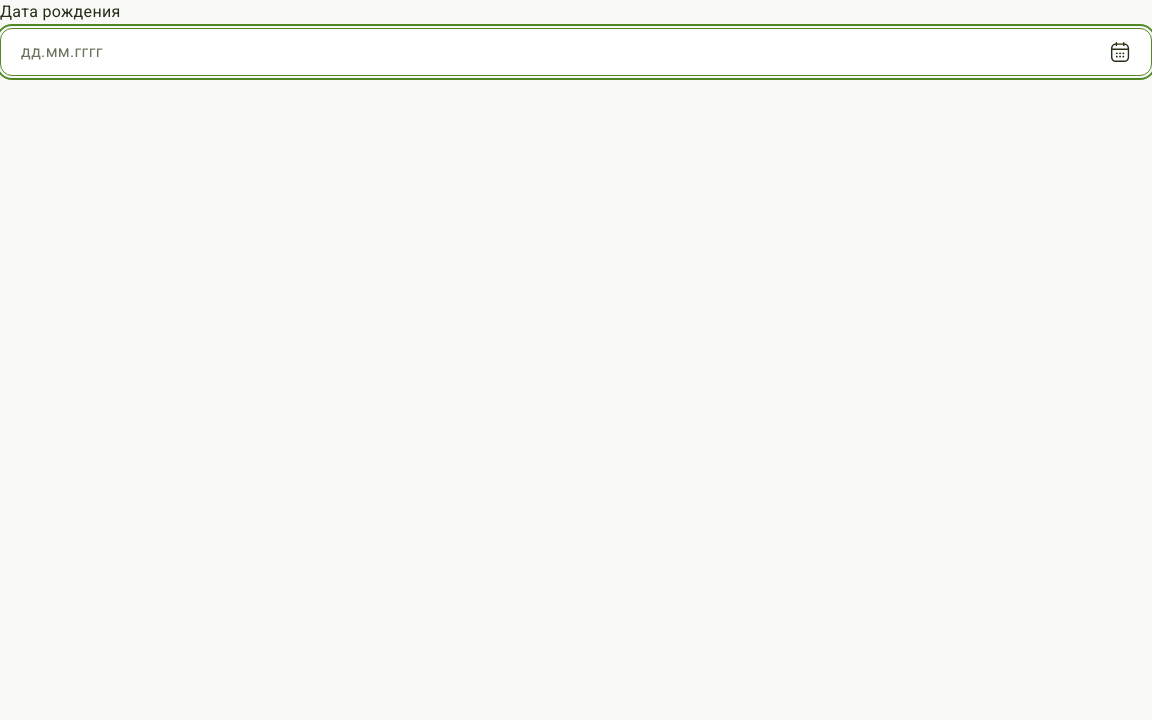
синхронизация с формой › отбрасывает старый черновик при внешнем value=null
The width and height of the screenshot is (1152, 720).
Earlier steps of the test are not shown.
Expected: the field labelled "Дата рождения" is empty, [0,28,1151,76]
What coordinates should you click on to do the following:
click the button named "Открыть календарь"
I would click on:
 (1120, 52)
Its box is [1108,40,1132,64].
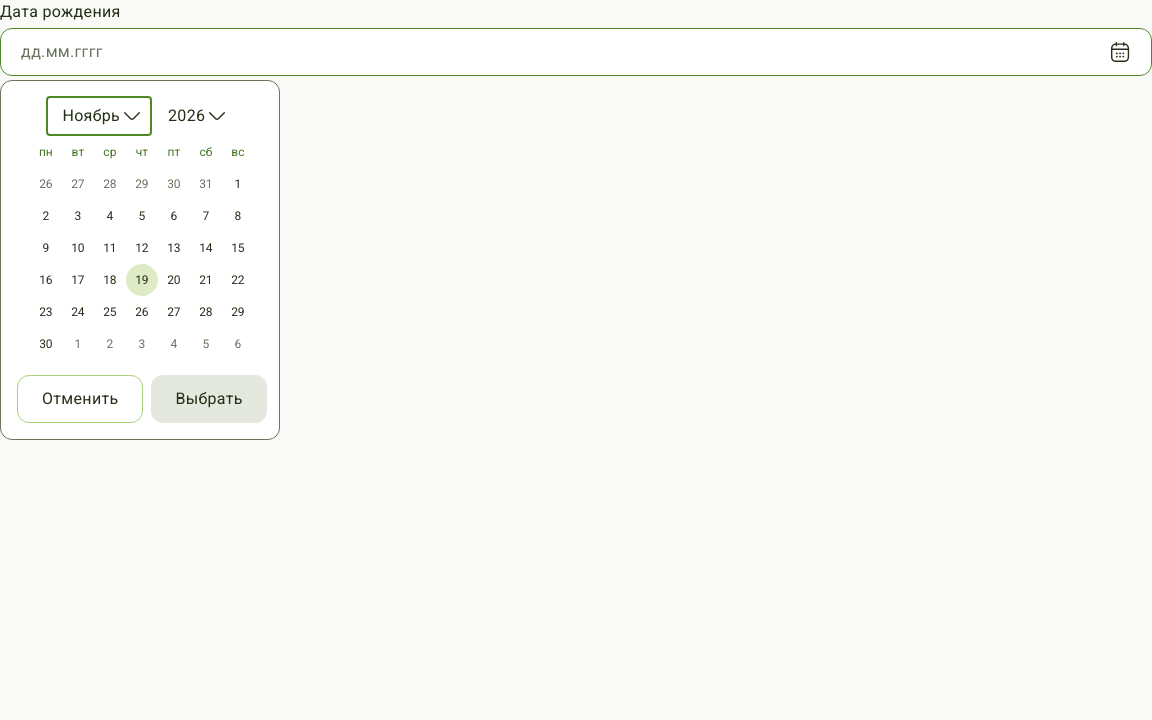
Now the button "Выбрать" is disabled, box [152,375,267,423]
